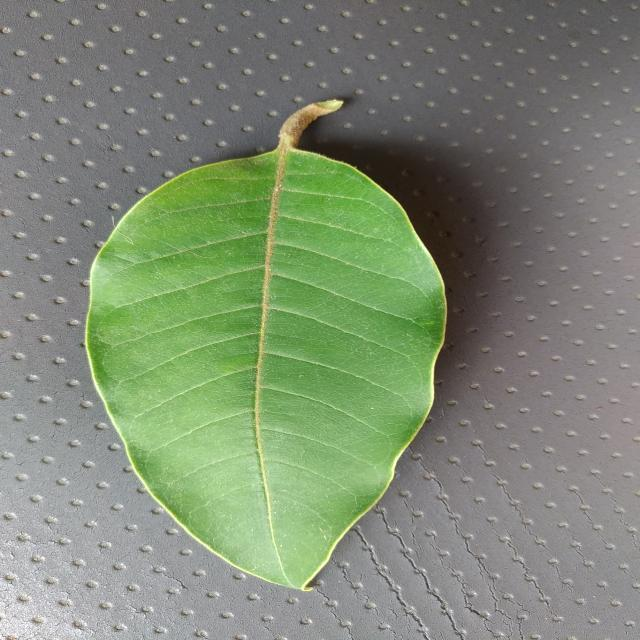coffee: (87, 100, 447, 589)
